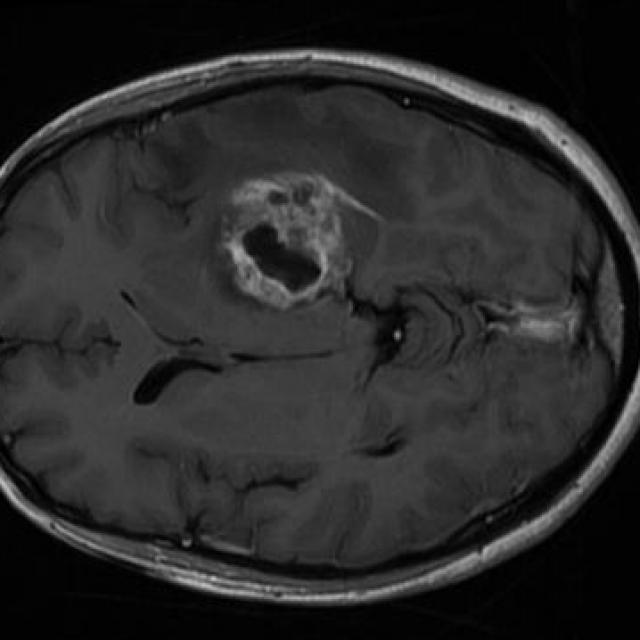glioma: (219, 171, 351, 312)
